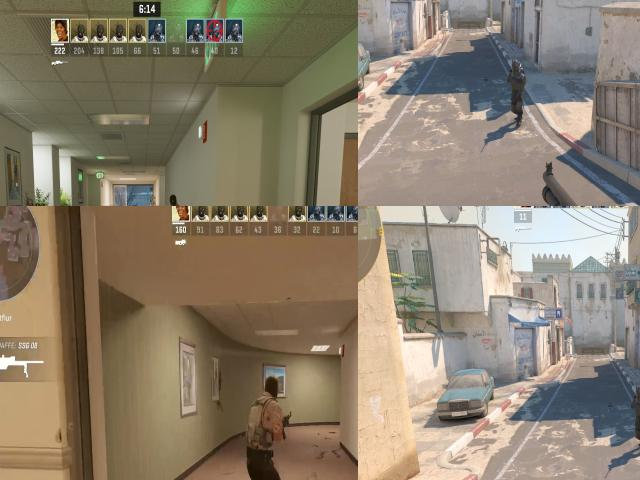CT: (510, 60, 526, 120), (634, 385, 640, 445)
CT-Head: (512, 60, 519, 70), (636, 386, 640, 395)
T: (238, 379, 286, 463)
T-Head: (258, 373, 282, 401), (169, 194, 179, 206)
